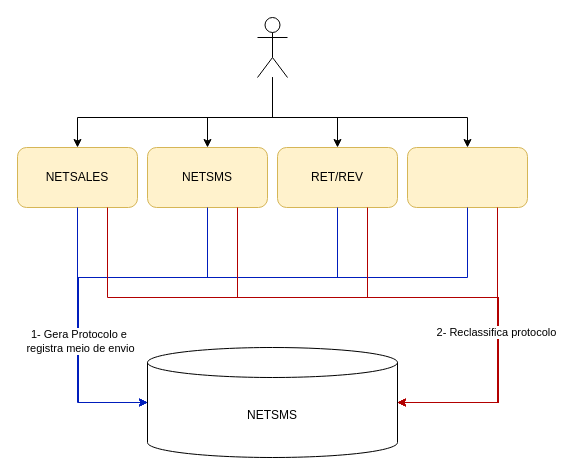
This 573x475 diagram has some shape labels left out. Each missing label, with the centre of its shape:
NETCOLETIVOS: the point at 467,177
Vendedor: the point at 272,47
